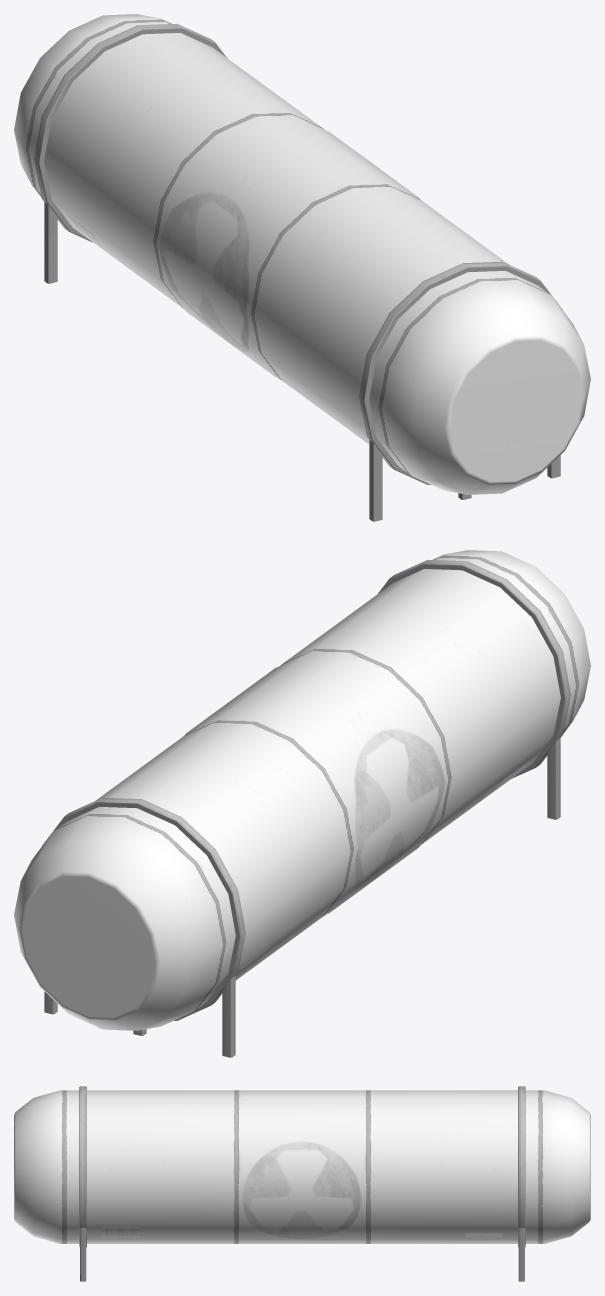
File: NuclearFacilityTank_Horizontal.fbx
3 views of the same model, one above another, from view 1: azimuth 30°, elevation 25°; view 2: azimuth 150°, elevation 25°; view 3: azimuth 270°, elevation 25° (orthographic). The views are drawn at different scales.
Visible parts, largest first — view 1: Body, Decal, Support; view 2: Body, Decal, Support; view 3: Body, Decal, Support.
Boxes of the visible parts, x1=… form: Body: x1=14, y1=14, x2=590, y2=494; Decal: x1=67, y1=130, x2=420, y2=444; Support: x1=34, y1=24, x2=562, y2=521; Body: x1=14, y1=550, x2=590, y2=1030; Decal: x1=184, y1=666, x2=529, y2=978; Support: x1=42, y1=560, x2=570, y2=1057; Body: x1=14, y1=1090, x2=590, y2=1243; Decal: x1=102, y1=1140, x2=502, y2=1239; Support: x1=79, y1=1086, x2=525, y2=1281.
Size of what is drawn, in the model's own units: 420 by 450 by 1500.
